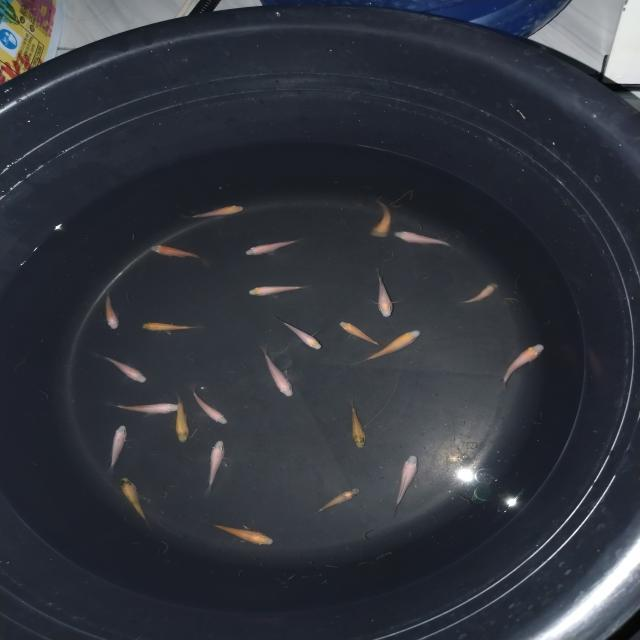nila: (360, 327, 425, 365), (498, 340, 548, 389), (254, 348, 299, 398), (118, 474, 158, 526), (272, 314, 326, 352), (209, 521, 283, 548), (390, 452, 422, 514), (336, 397, 372, 449), (93, 351, 150, 383), (185, 389, 234, 426), (200, 435, 230, 495), (310, 487, 365, 518), (103, 422, 133, 478), (241, 234, 311, 258), (146, 239, 206, 264), (365, 196, 398, 239), (333, 319, 385, 345), (110, 400, 182, 418), (391, 230, 453, 250), (374, 268, 396, 322), (178, 203, 244, 221), (455, 283, 510, 302), (170, 395, 190, 447), (244, 282, 308, 298), (101, 288, 122, 332), (136, 320, 204, 333)
